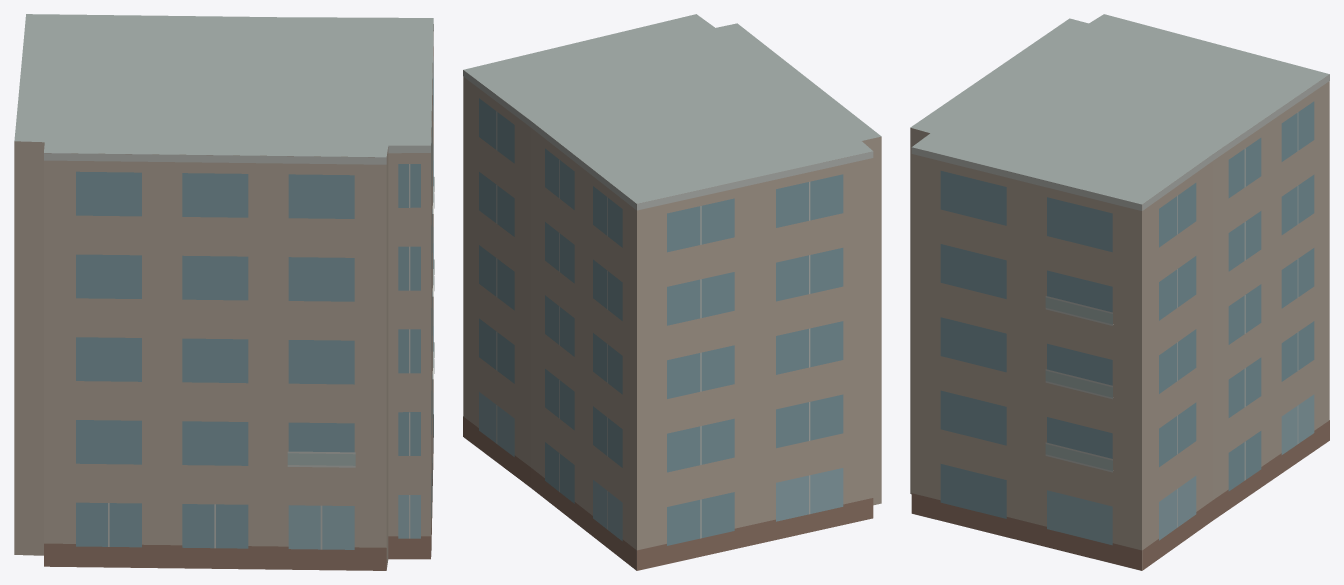
The model's file is survey-upis-32783021.glb.
3 views of the same model, side by side, from view 1: azimuth 30°, elevation 25°; view 2: azimuth 150°, elevation 25°; view 3: azimuth 270°, elevation 25° (orthographic). The views are drawn at different scales.
Visible parts, largest first — view 1: survey-upis-32783021.tmp; view 2: survey-upis-32783021.tmp; view 3: survey-upis-32783021.tmp.
Part boxes in pixels (x1,y1,x2,y2): survey-upis-32783021.tmp: (14,14,434,570); survey-upis-32783021.tmp: (463,14,881,570); survey-upis-32783021.tmp: (910,14,1329,570).
Bounding box in the file's own units: 15 × 13.44 × 13.96.
